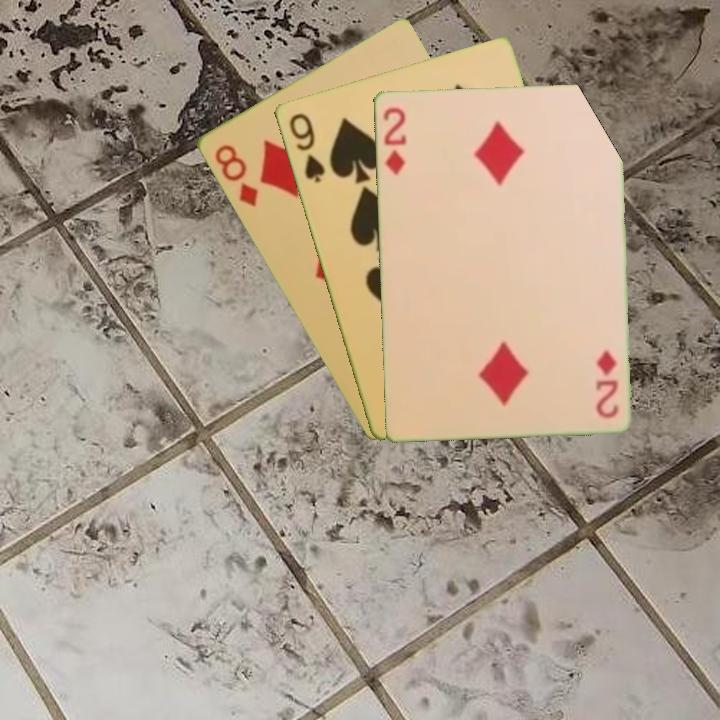2d: (379, 103, 409, 177), (592, 346, 621, 421)
8d: (210, 140, 261, 210)
9s: (285, 109, 328, 185)
